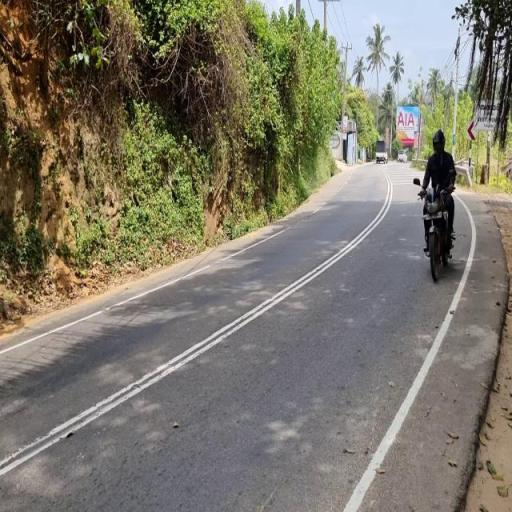double_white_line: (0, 167, 390, 484)
